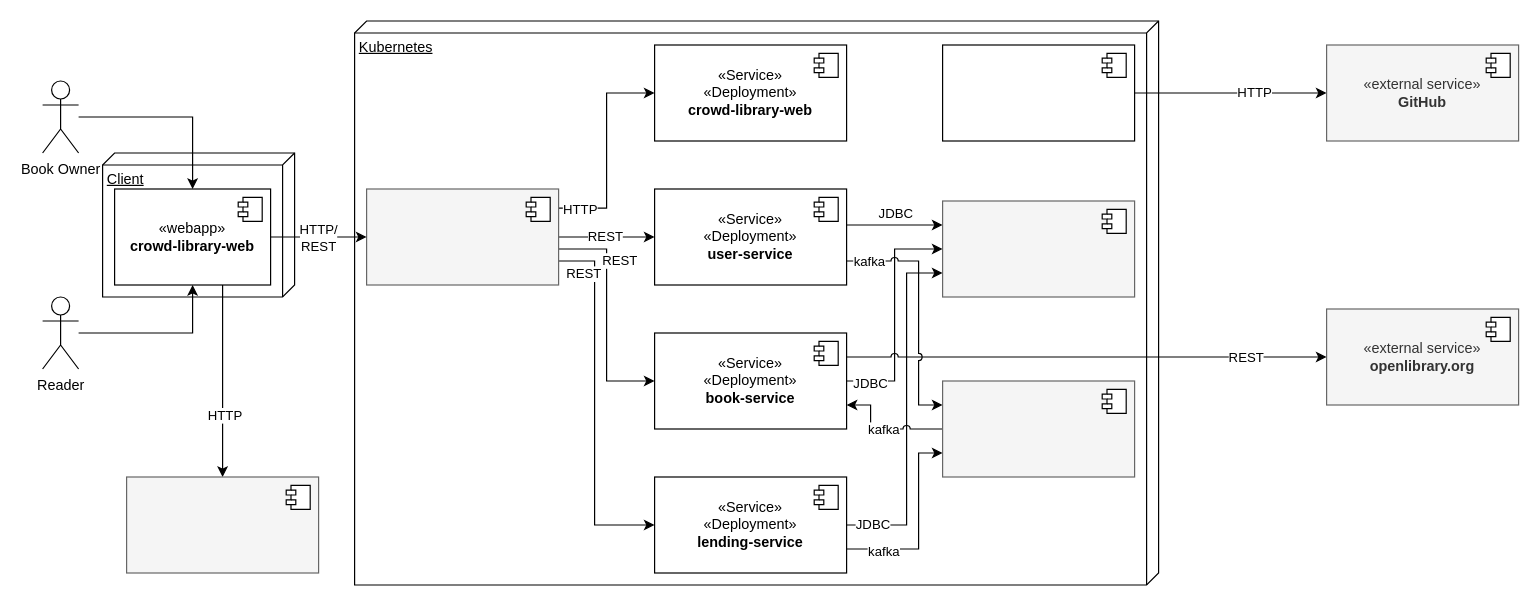
Some shapes in this 1540 by 606 pixel diagram are drawn without their labels. Here are the shapes that lost their labels. From the top down, the centre of each, then its label:
At point (1038, 92): "«CronJob» auto-deploy".
At point (462, 236): "«Ingress» cl-gateway".
At point (1038, 248): "«Service» «Deployment» postgres-db".
At point (1038, 428): "«Service» «StatefulSet» kafka".
At point (222, 524): "«external service» OSM API".
